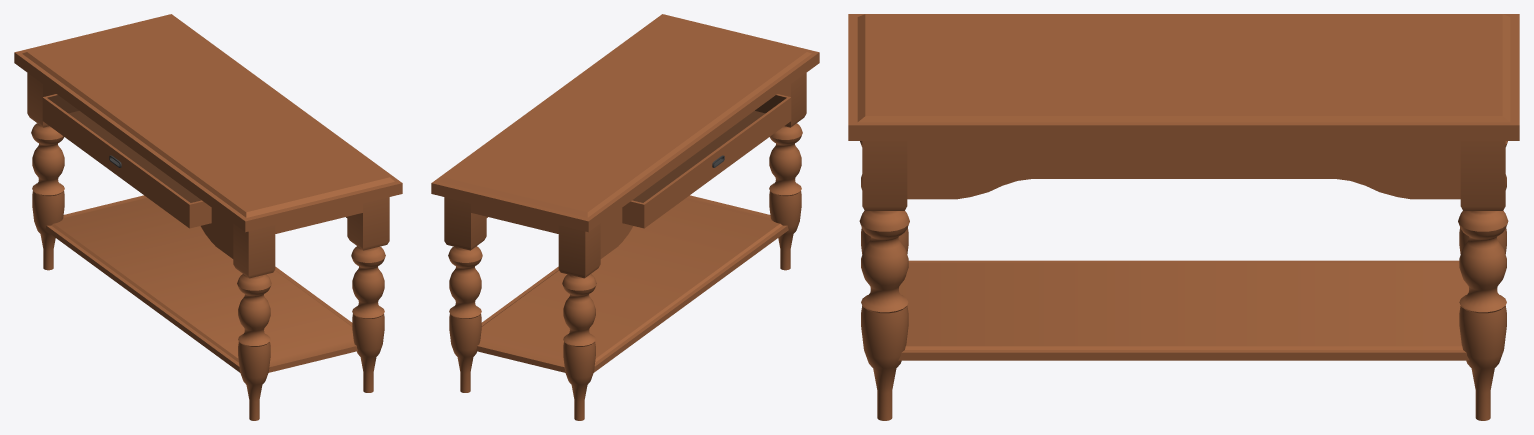
The model's file is Table_Narrow_01.glb.
3 renders of one model, left to right at view 1: azimuth 30°, elevation 25°; view 2: azimuth 150°, elevation 25°; view 3: azimuth 270°, elevation 25°, orthographic. The views are drawn at different scales.
Parts seen in each view (by area): view 1: Mesh_Table_Narrow_01; view 2: Mesh_Table_Narrow_01; view 3: Mesh_Table_Narrow_01.
Boxes of the visible parts, bbox=[...] form: Mesh_Table_Narrow_01: bbox=[14, 14, 402, 420]; Mesh_Table_Narrow_01: bbox=[431, 14, 819, 420]; Mesh_Table_Narrow_01: bbox=[848, 14, 1519, 420].
Bounding box in the file's own units: 0.6456 × 0.77 × 1.5.
1 material, 1 textured.
